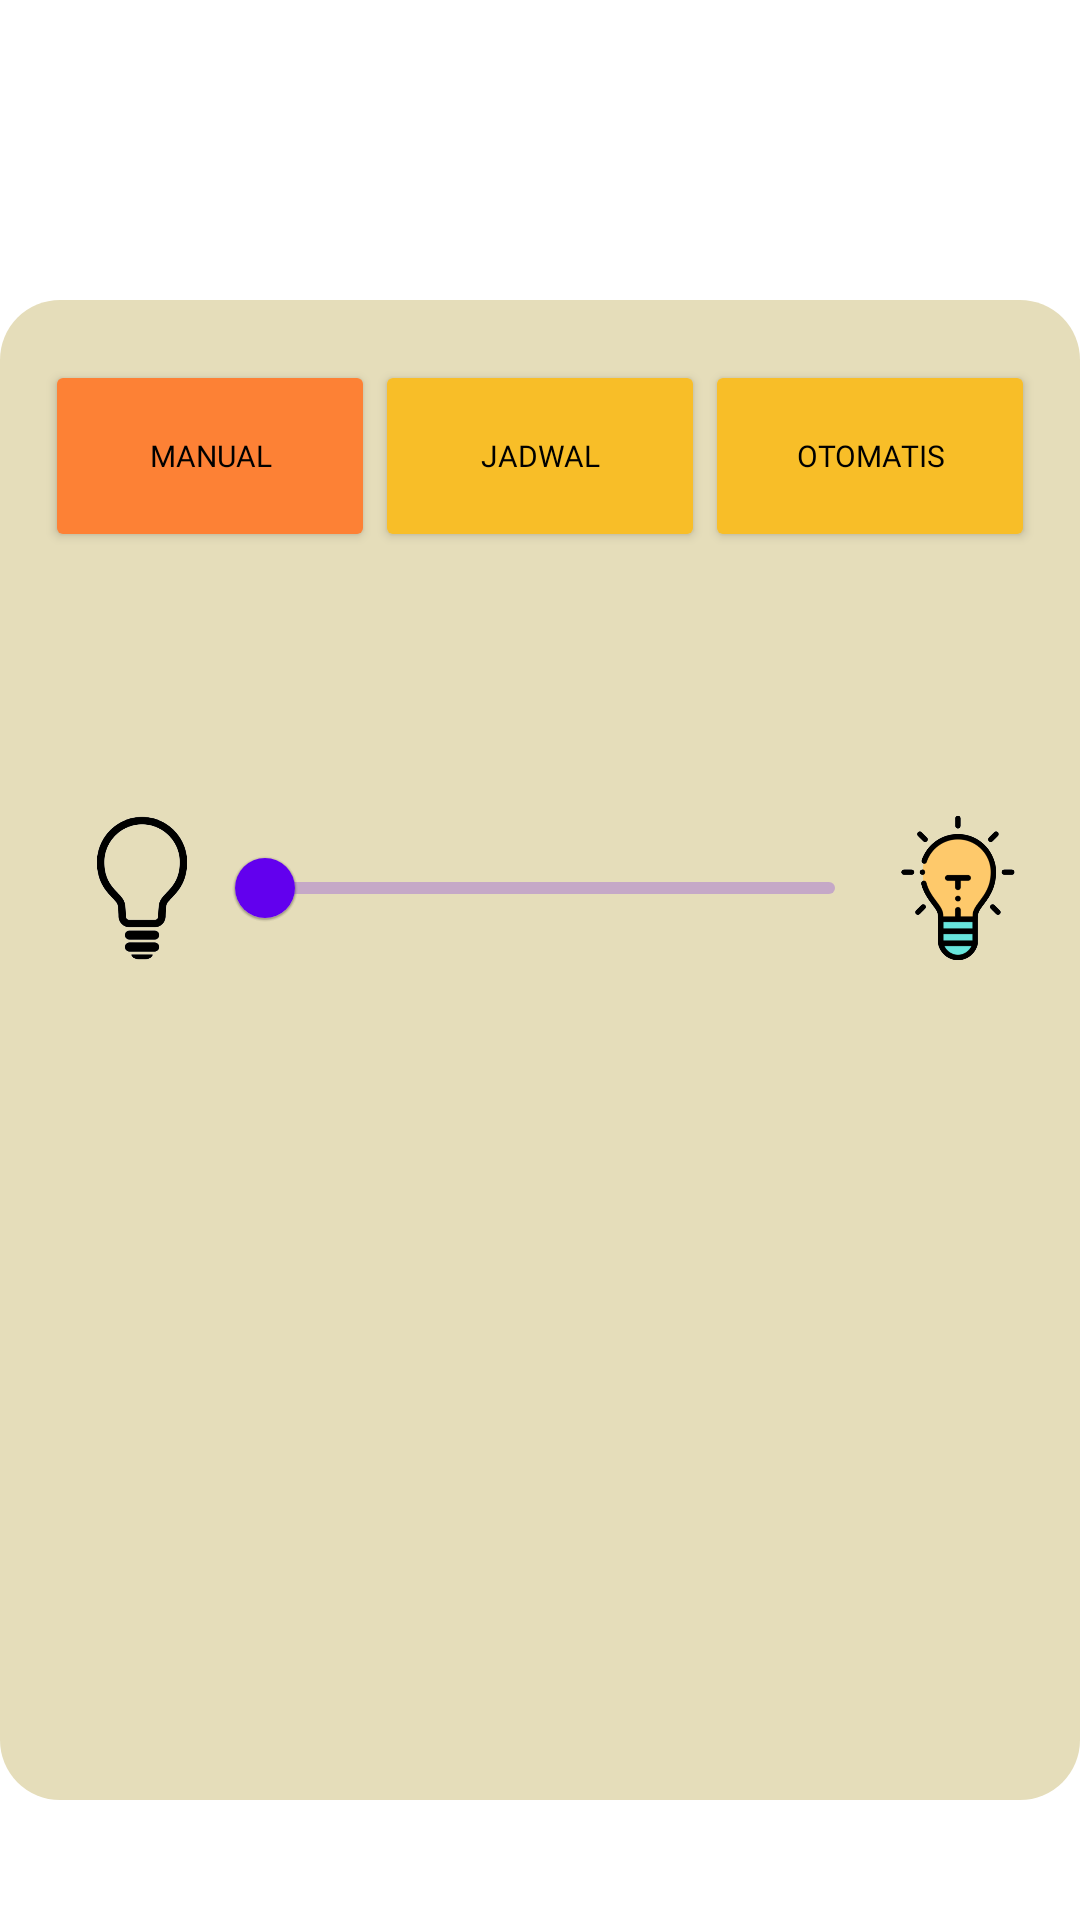

Named icons in this screenshot (1080*1920) and their centers, (x,y):
iconlampumati: (142,888)
iconlampunyala: (958,888)
